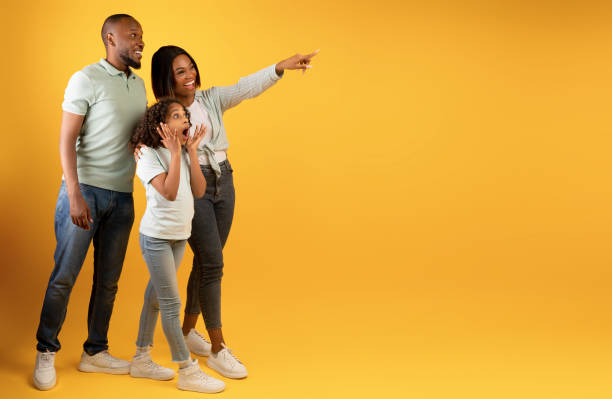without mask: (94, 7, 149, 72), (158, 52, 199, 95), (150, 104, 191, 147)
